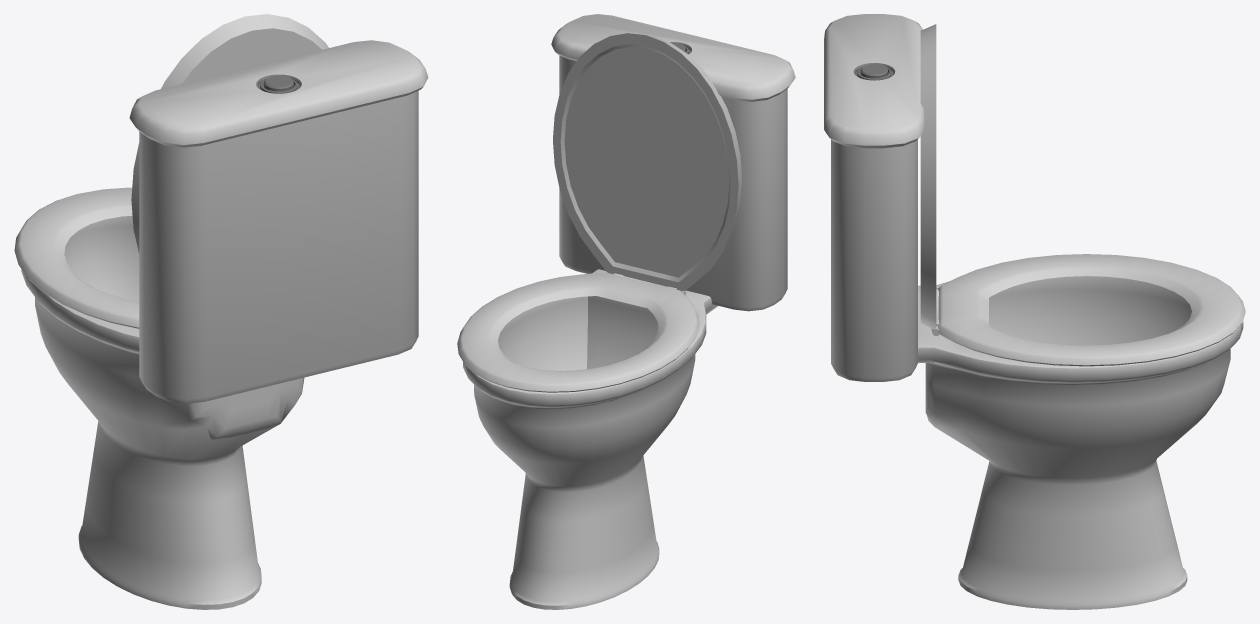
Rendered from toilet.glb.
The picture shows the model from 3 angles, left to right: view 1: azimuth 30°, elevation 25°; view 2: azimuth 150°, elevation 25°; view 3: azimuth 270°, elevation 25°; orthographic projection. The views are drawn at different scales.
Visible parts, largest first — view 1: Cylinder.067, Cylinder.068, Cylinder.069; view 2: Cylinder.067, Cylinder.069, Cylinder.068; view 3: Cylinder.067, Cylinder.068, Cylinder.069.
Boxes of the visible parts, box(x1,y1,x2,y2) form: Cylinder.067: box(21, 40, 428, 609); Cylinder.068: box(14, 187, 139, 328); Cylinder.069: box(131, 14, 328, 253); Cylinder.067: box(463, 14, 795, 609); Cylinder.069: box(553, 33, 741, 291); Cylinder.068: box(457, 272, 699, 392); Cylinder.067: box(824, 14, 1243, 609); Cylinder.068: box(938, 254, 1245, 366); Cylinder.069: box(920, 24, 936, 329).
Size of the model in its own units: 0.755 by 1.57 by 1.1.
2 materials, 2 textured.
